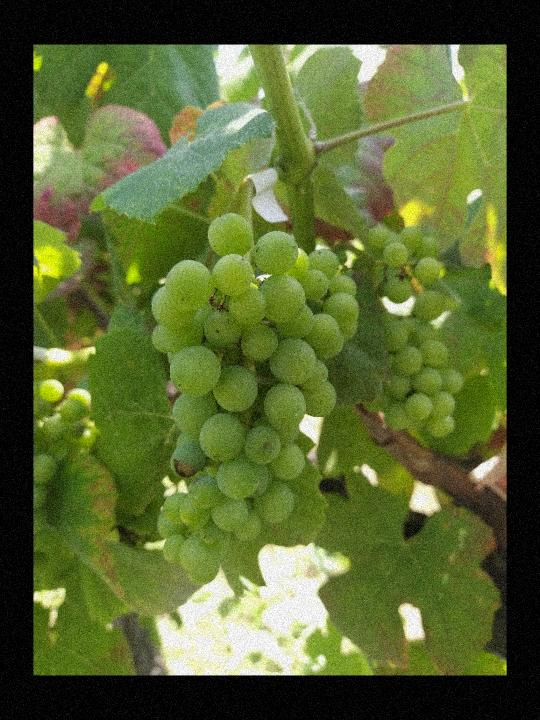grape: (149, 208, 364, 589)
